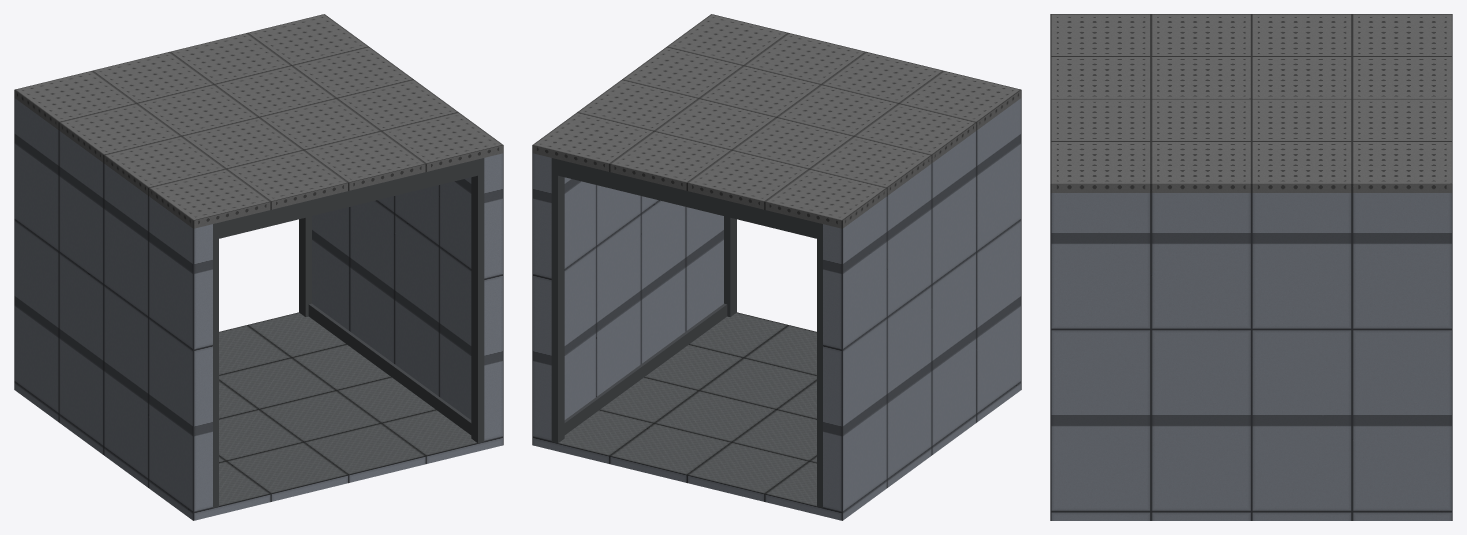
File: Corridor_SciFi_Straight.glb
3 views of the same model, side by side, from view 1: azimuth 30°, elevation 25°; view 2: azimuth 150°, elevation 25°; view 3: azimuth 270°, elevation 25° (orthographic). The views are drawn at different scales.
Visible parts, largest first — view 1: Corridor_SciFi_Straight, Corridor_SciFi_Straight_Ceiling; view 2: Corridor_SciFi_Straight, Corridor_SciFi_Straight_Ceiling; view 3: Corridor_SciFi_Straight, Corridor_SciFi_Straight_Ceiling.
Boxes of the visible parts, x1=… form: Corridor_SciFi_Straight: x1=14, y1=98, x2=503, y2=520; Corridor_SciFi_Straight_Ceiling: x1=14, y1=14, x2=503, y2=238; Corridor_SciFi_Straight: x1=532, y1=98, x2=1021, y2=520; Corridor_SciFi_Straight_Ceiling: x1=532, y1=14, x2=1021, y2=238; Corridor_SciFi_Straight: x1=1050, y1=193, x2=1452, y2=520; Corridor_SciFi_Straight_Ceiling: x1=1050, y1=14, x2=1452, y2=192.
Bounding box in the file's own units: 4 × 3.7 × 4.
Materials: 6 (3 with a texture image).
